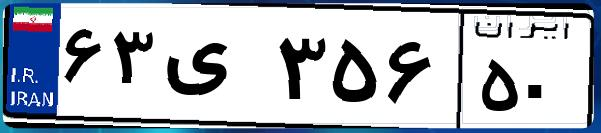0: (525, 38, 570, 115)
3: (270, 28, 330, 110), (110, 28, 158, 98)
5: (330, 28, 385, 110), (475, 38, 525, 113)
6: (385, 28, 445, 110), (57, 26, 110, 100)
ی: (158, 20, 270, 120)
